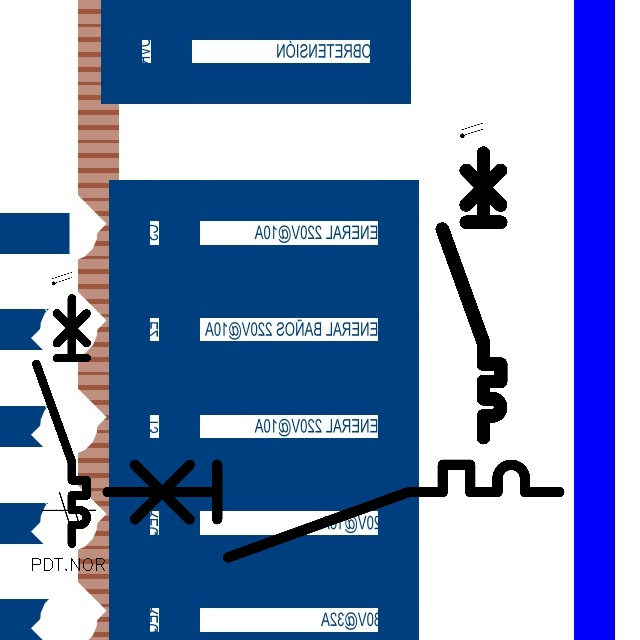interruptor_termomagnetico: (95, 453, 571, 569), (435, 145, 508, 444), (30, 292, 93, 550)
